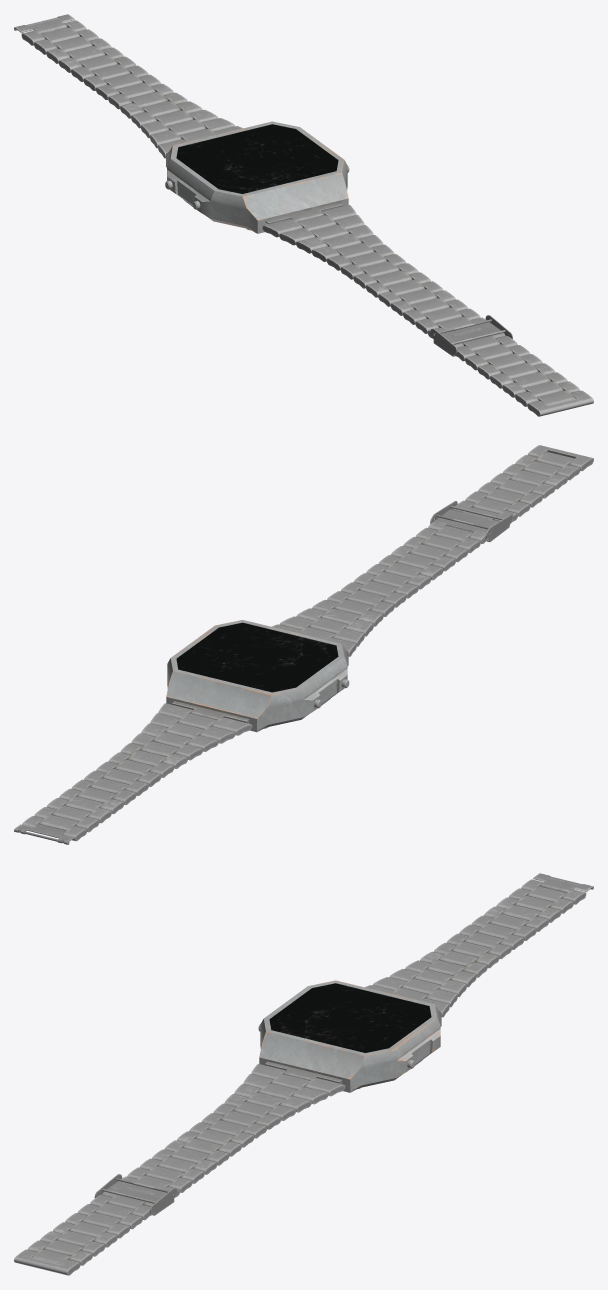
Rendered from digital-watch.glb.
The picture shows the model from 3 angles, top to bottom: view 1: azimuth 30°, elevation 25°; view 2: azimuth 150°, elevation 25°; view 3: azimuth 330°, elevation 25°; orthographic projection.
Parts seen in each view (by area): view 1: digital_wrist_watch_strap_b, digital_wrist_watch, digital_wrist_watch_strap_a, digital_wrist_watch_clasp; view 2: digital_wrist_watch_strap_b, digital_wrist_watch, digital_wrist_watch_strap_a, digital_wrist_watch_clasp; view 3: digital_wrist_watch_strap_b, digital_wrist_watch, digital_wrist_watch_strap_a, digital_wrist_watch_clasp.
Part boxes in pixels (left/top/right/bottom): digital_wrist_watch_strap_b: left=262, top=202, right=593, bottom=416; digital_wrist_watch: left=165, top=121, right=349, bottom=233; digital_wrist_watch_strap_a: left=21, top=20, right=242, bottom=158; digital_wrist_watch_clasp: left=14, top=14, right=74, bottom=33; digital_wrist_watch_strap_b: left=272, top=445, right=593, bottom=656; digital_wrist_watch: left=166, top=620, right=349, bottom=732; digital_wrist_watch_strap_a: left=22, top=701, right=252, bottom=841; digital_wrist_watch_clasp: left=14, top=824, right=74, bottom=844; digital_wrist_watch_strap_b: left=14, top=1061, right=345, bottom=1275; digital_wrist_watch: left=258, top=980, right=441, bottom=1092; digital_wrist_watch_strap_a: left=365, top=879, right=586, bottom=1017; digital_wrist_watch_clasp: left=533, top=873, right=593, bottom=892.
Bounding box in the file's own units: 0.0365 × 0.00835 × 0.2172.
2 materials, 2 textured.
